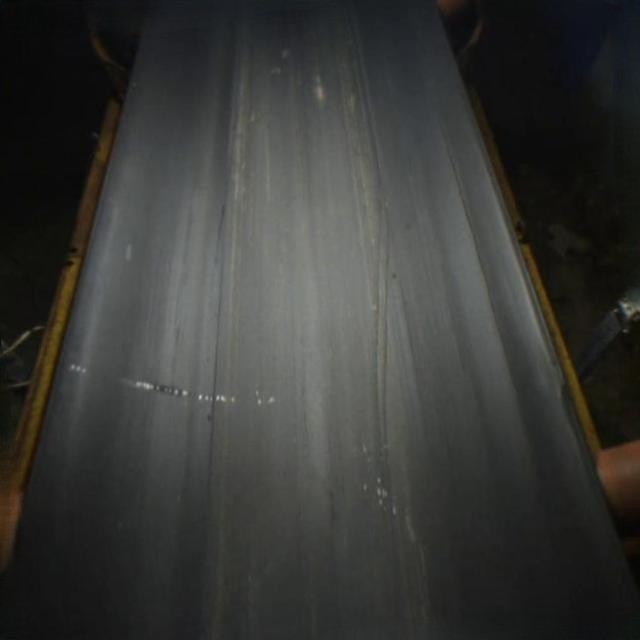Tear: (424, 117, 543, 488)
